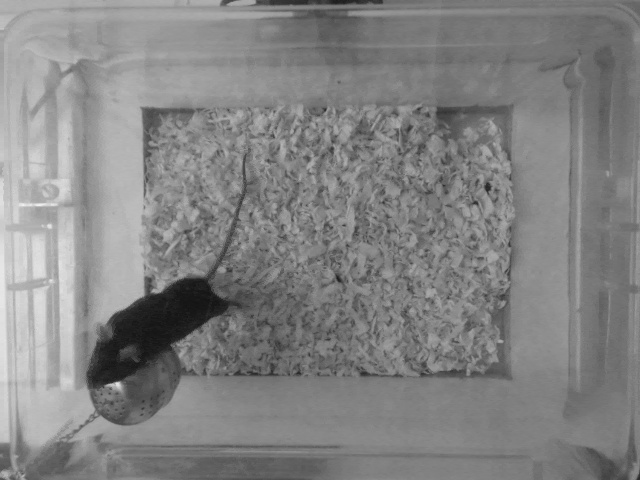mice: (87, 151, 253, 395)
